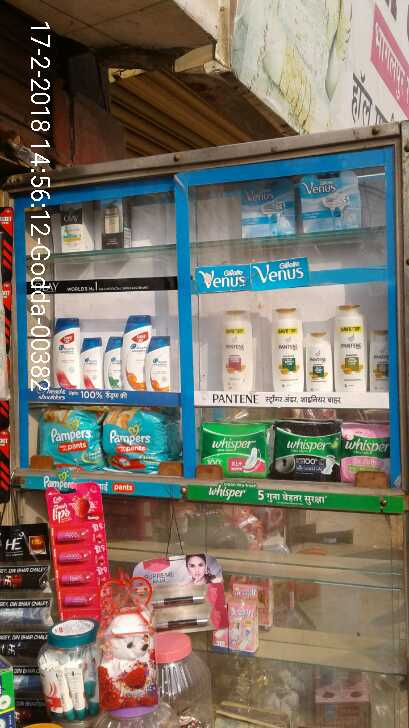venus: (243, 179, 296, 238), (305, 180, 363, 232)
